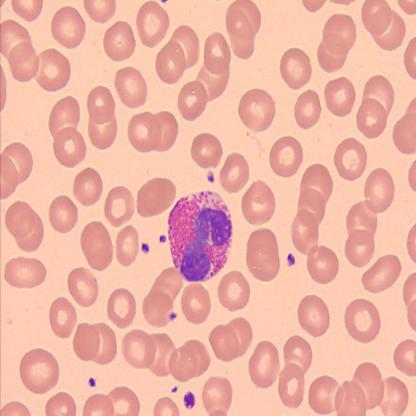Eosinophil: (167, 190, 234, 284)
